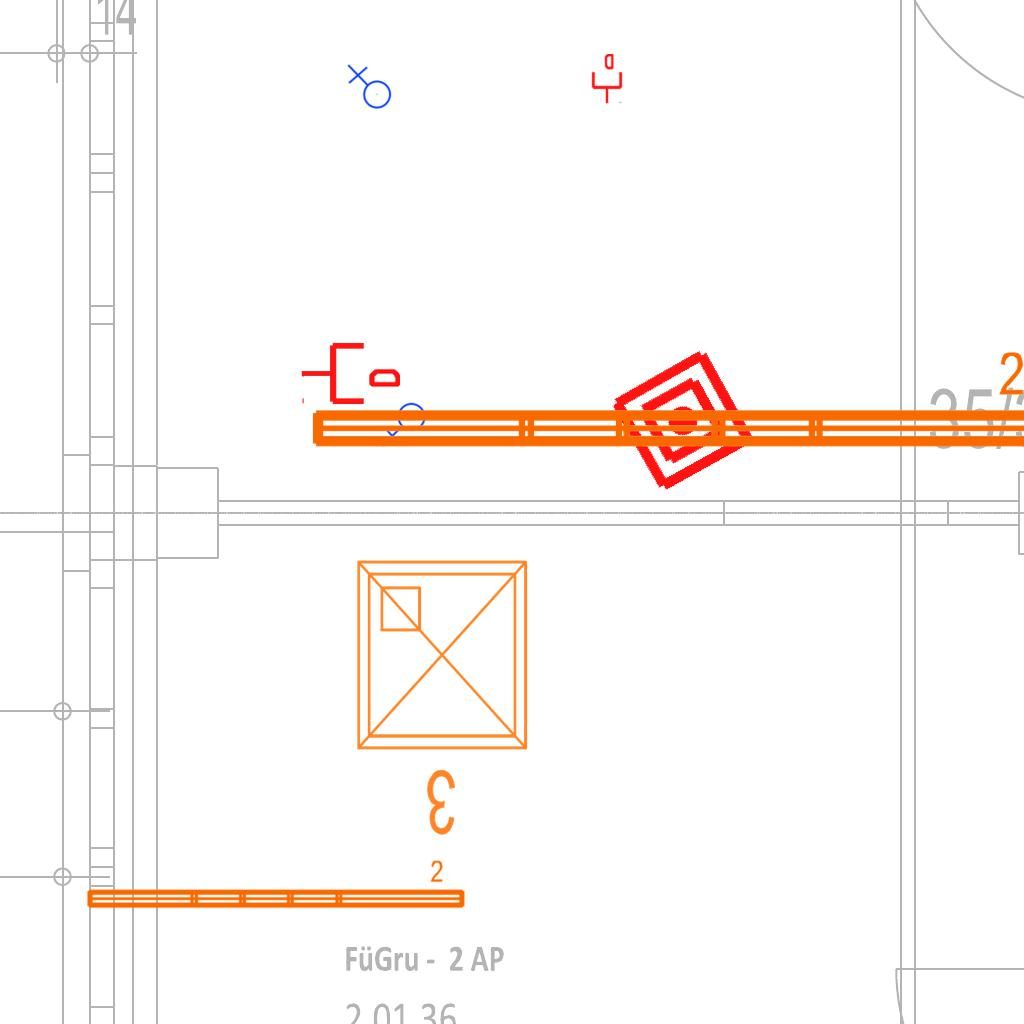Ambulanz_Pendelleuchte_LED: (302, 347, 1024, 459), (82, 858, 469, 914)
Datenanschluss_einfach: (300, 339, 400, 408), (590, 54, 624, 104)
Einbaudownlights_LED_Konferenzraeume: (342, 546, 550, 846)
Elektroanschluss_allgemein_230V_Geraeteanschlussdose_230V: (381, 402, 430, 449), (345, 64, 392, 113)
NAM-Nichtautomatischer_Melder: (605, 343, 760, 498)
